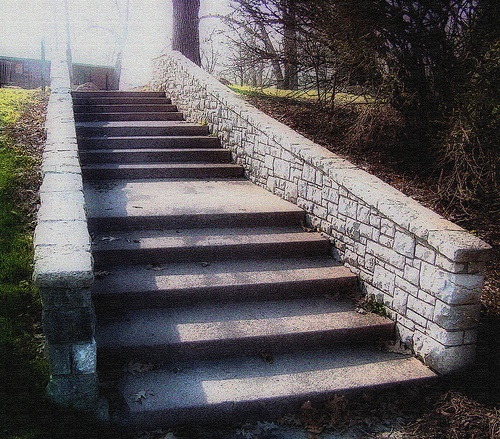stairs_up: (61, 78, 447, 423)
